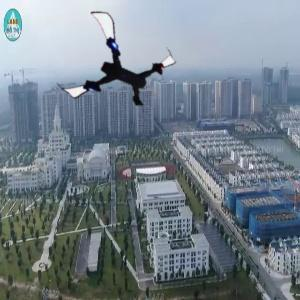drone: (62, 20, 165, 123)
